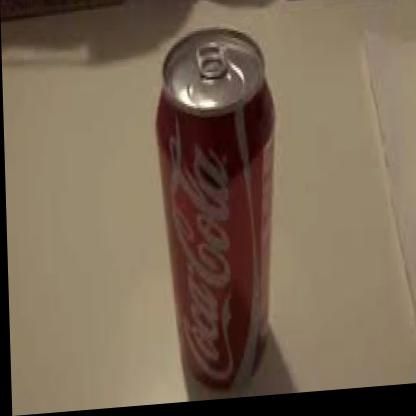trash: (157, 29, 273, 398)
